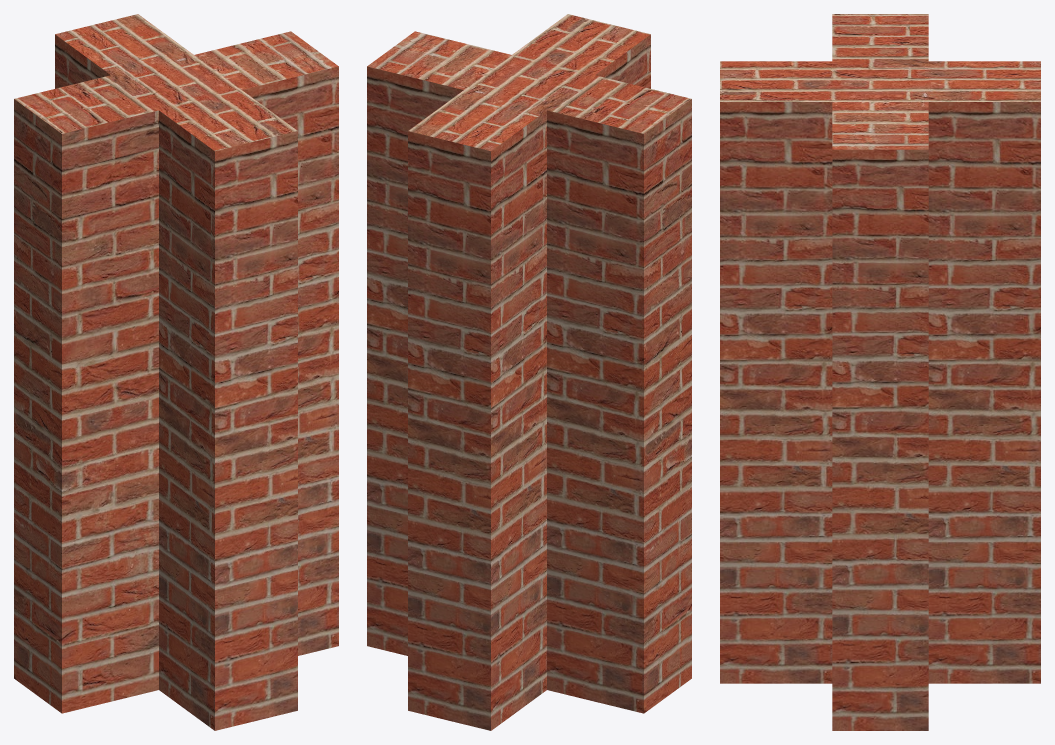
The model's file is wallX.fbx.
The picture shows the model from 3 angles, left to right: view 1: azimuth 30°, elevation 25°; view 2: azimuth 150°, elevation 25°; view 3: azimuth 270°, elevation 25°; orthographic projection.
Visible parts, largest first — view 1: Cube; view 2: Cube; view 3: Cube.
Part boxes in pixels (<box>): Cube: <box>14,14,338,730</box>; Cube: <box>367,14,691,730</box>; Cube: <box>720,14,1040,730</box>.
Size of the model in its own units: 100 by 200 by 100.
